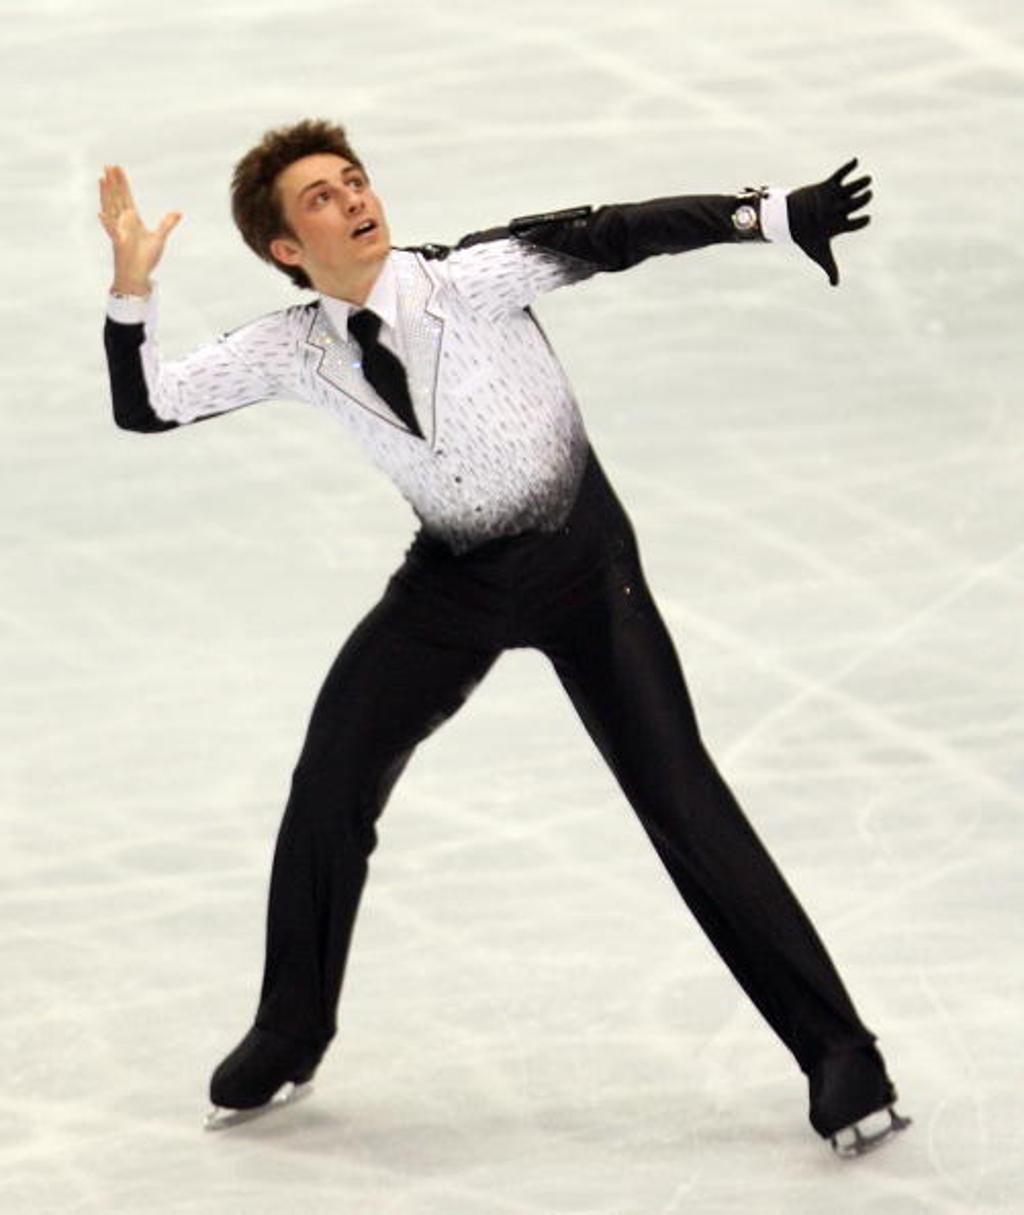face: (276, 155, 390, 269)
